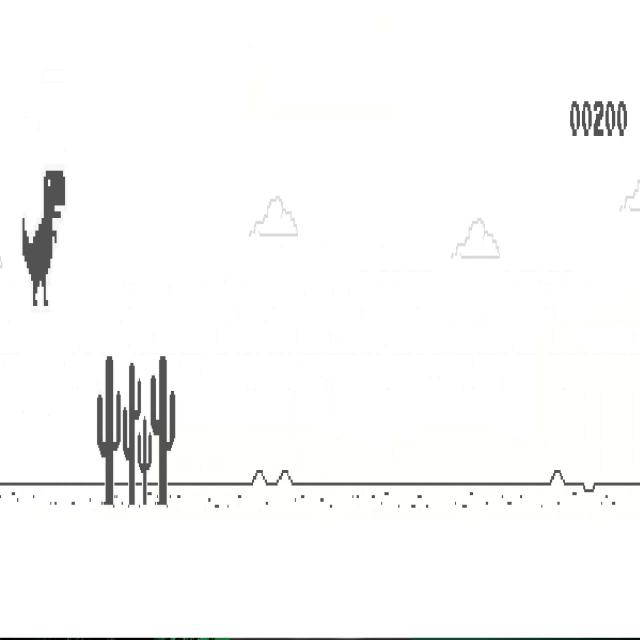cacto: (150, 354, 176, 507), (97, 354, 121, 507), (122, 361, 142, 507), (137, 415, 153, 507)
dino: (22, 169, 66, 308)
